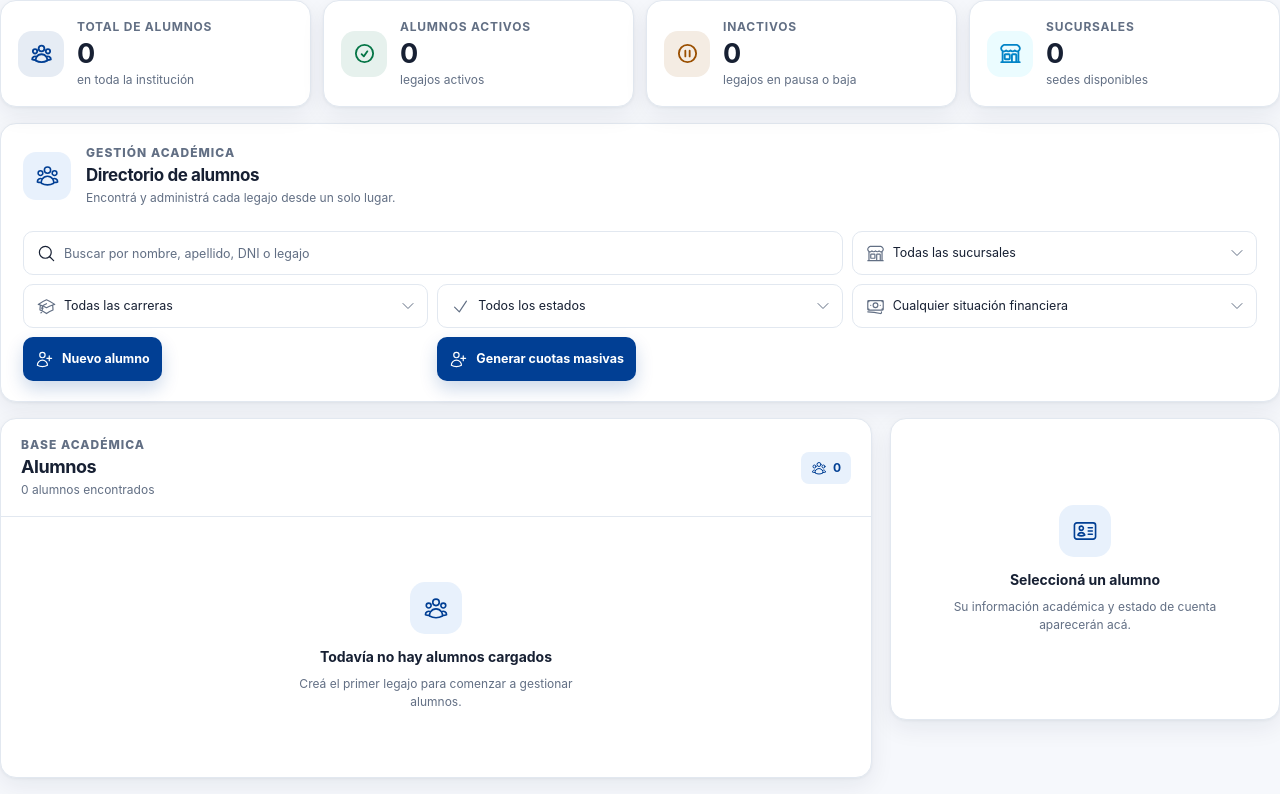
Test: acciones profundas de Alumnos › mantiene visible la búsqueda y su valor mientras se actualizan los filtros
Type "vo" into the search field with placeholder "Buscar por nombre, apellido, DNI o legajo" at (433, 253), box [24,232,842,274]
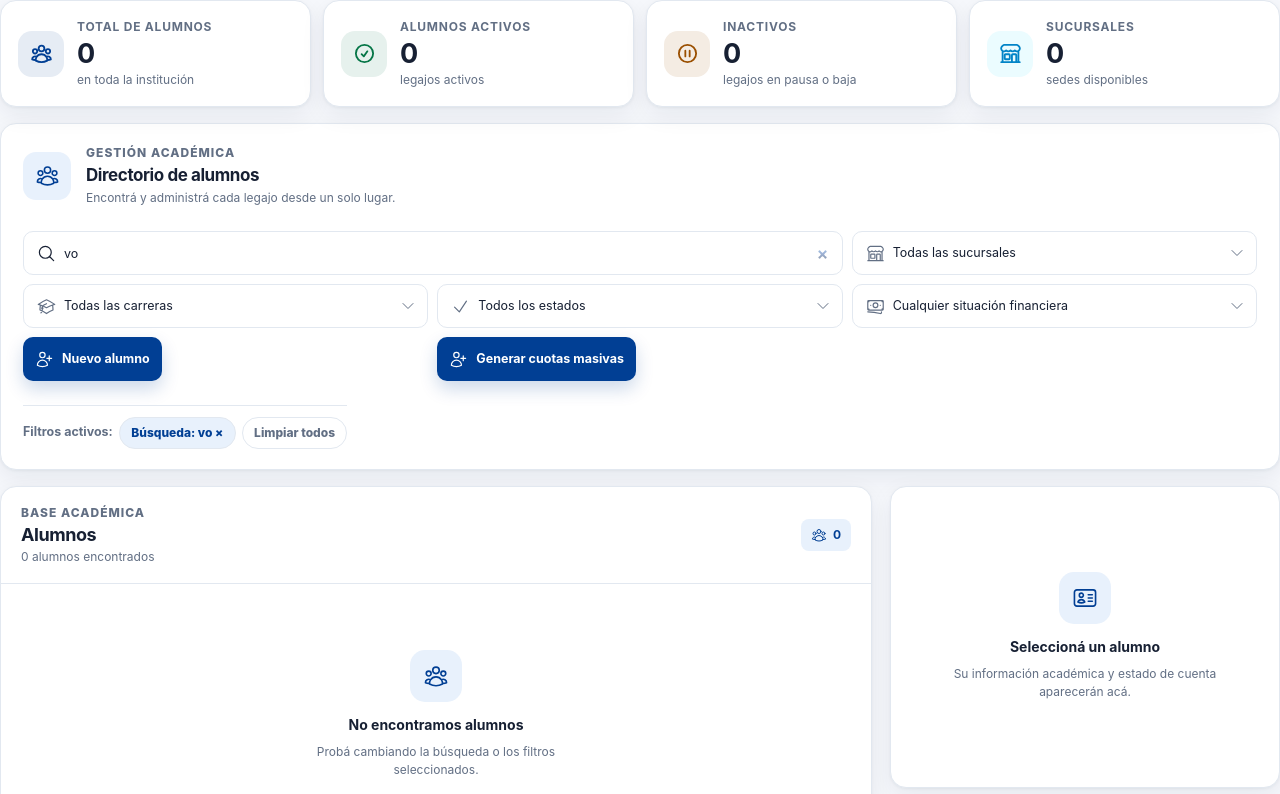
Result: the text "Búsqueda: vo" is shown at [119,417,236,449]
Clear the search field at (433, 253), box [24,232,842,274]
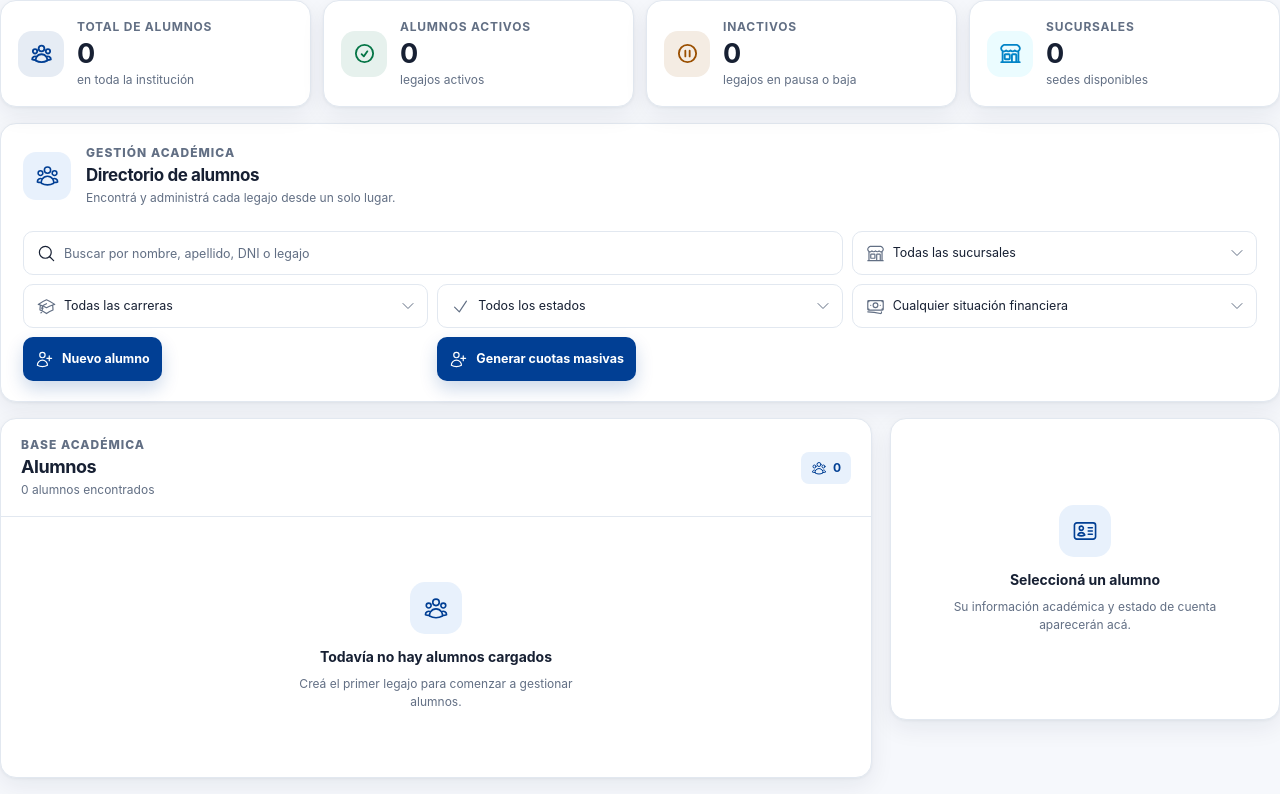
Result: the text "Búsqueda: vo" is gone
